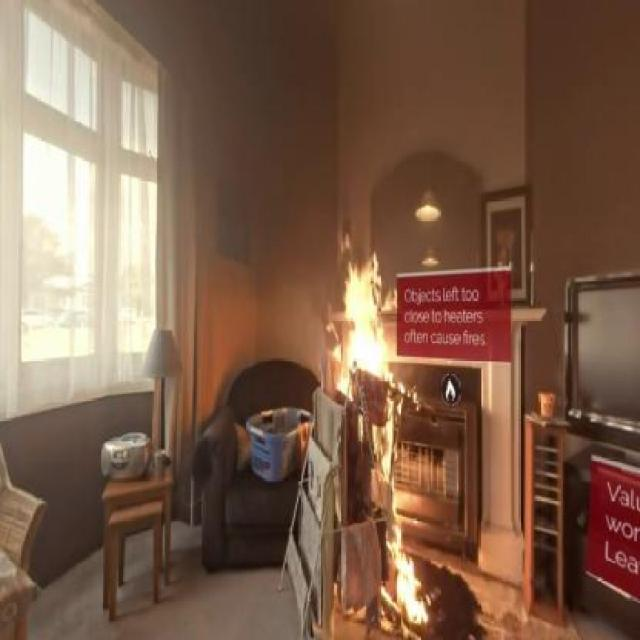fire: (333, 239, 432, 632)
smoke: (238, 166, 352, 306)
